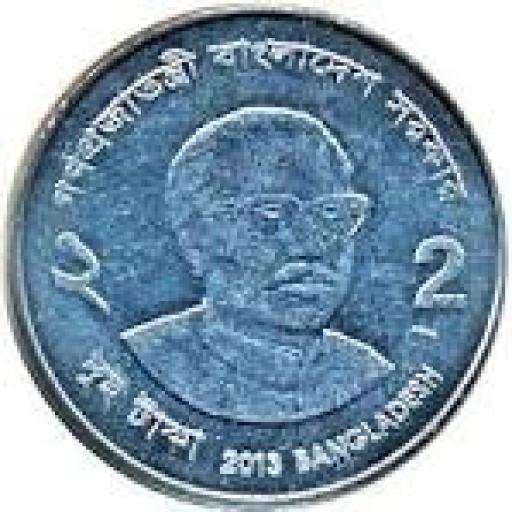2taka: (7, 7, 502, 509), (7, 10, 502, 509)
